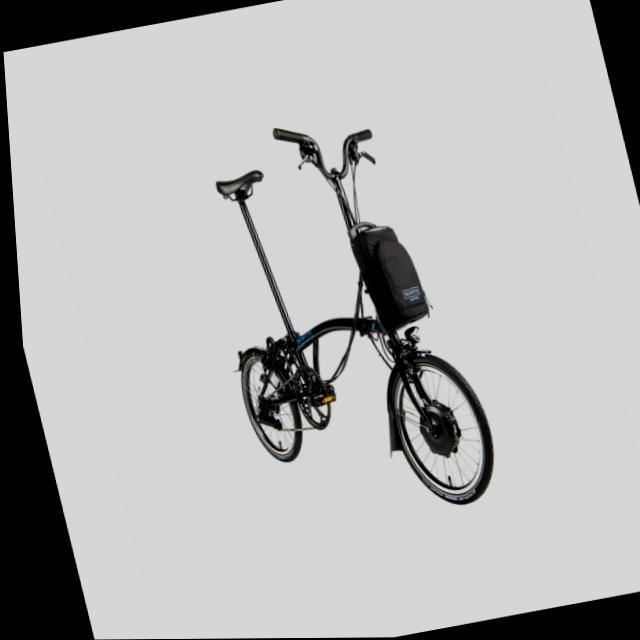folding-bike: (175, 99, 504, 540)
